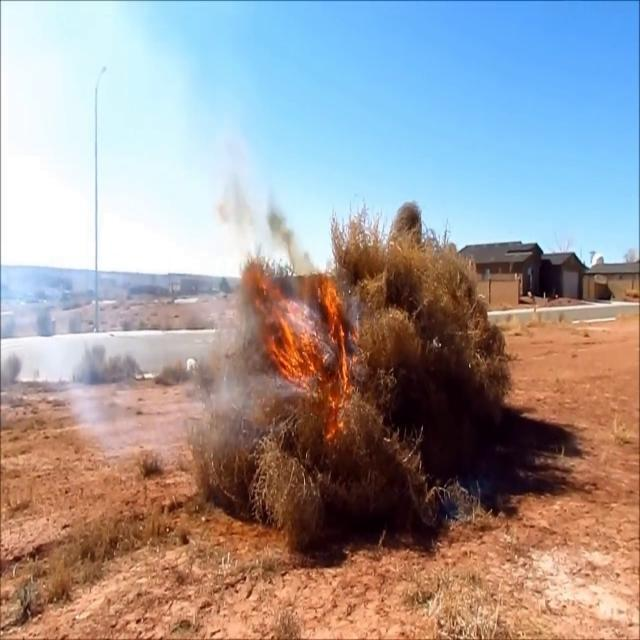Fire: (264, 266, 358, 442)
Smoke: (183, 98, 289, 446), (0, 288, 144, 446)
